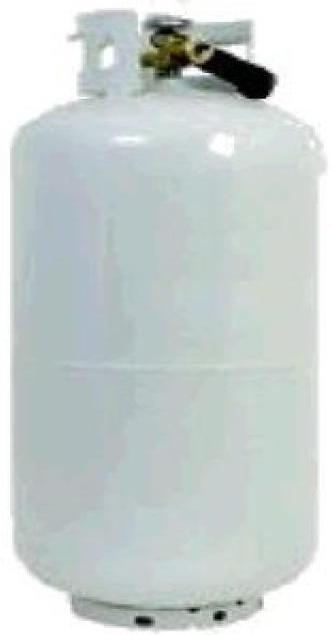cylinder: (1, 1, 333, 635)
